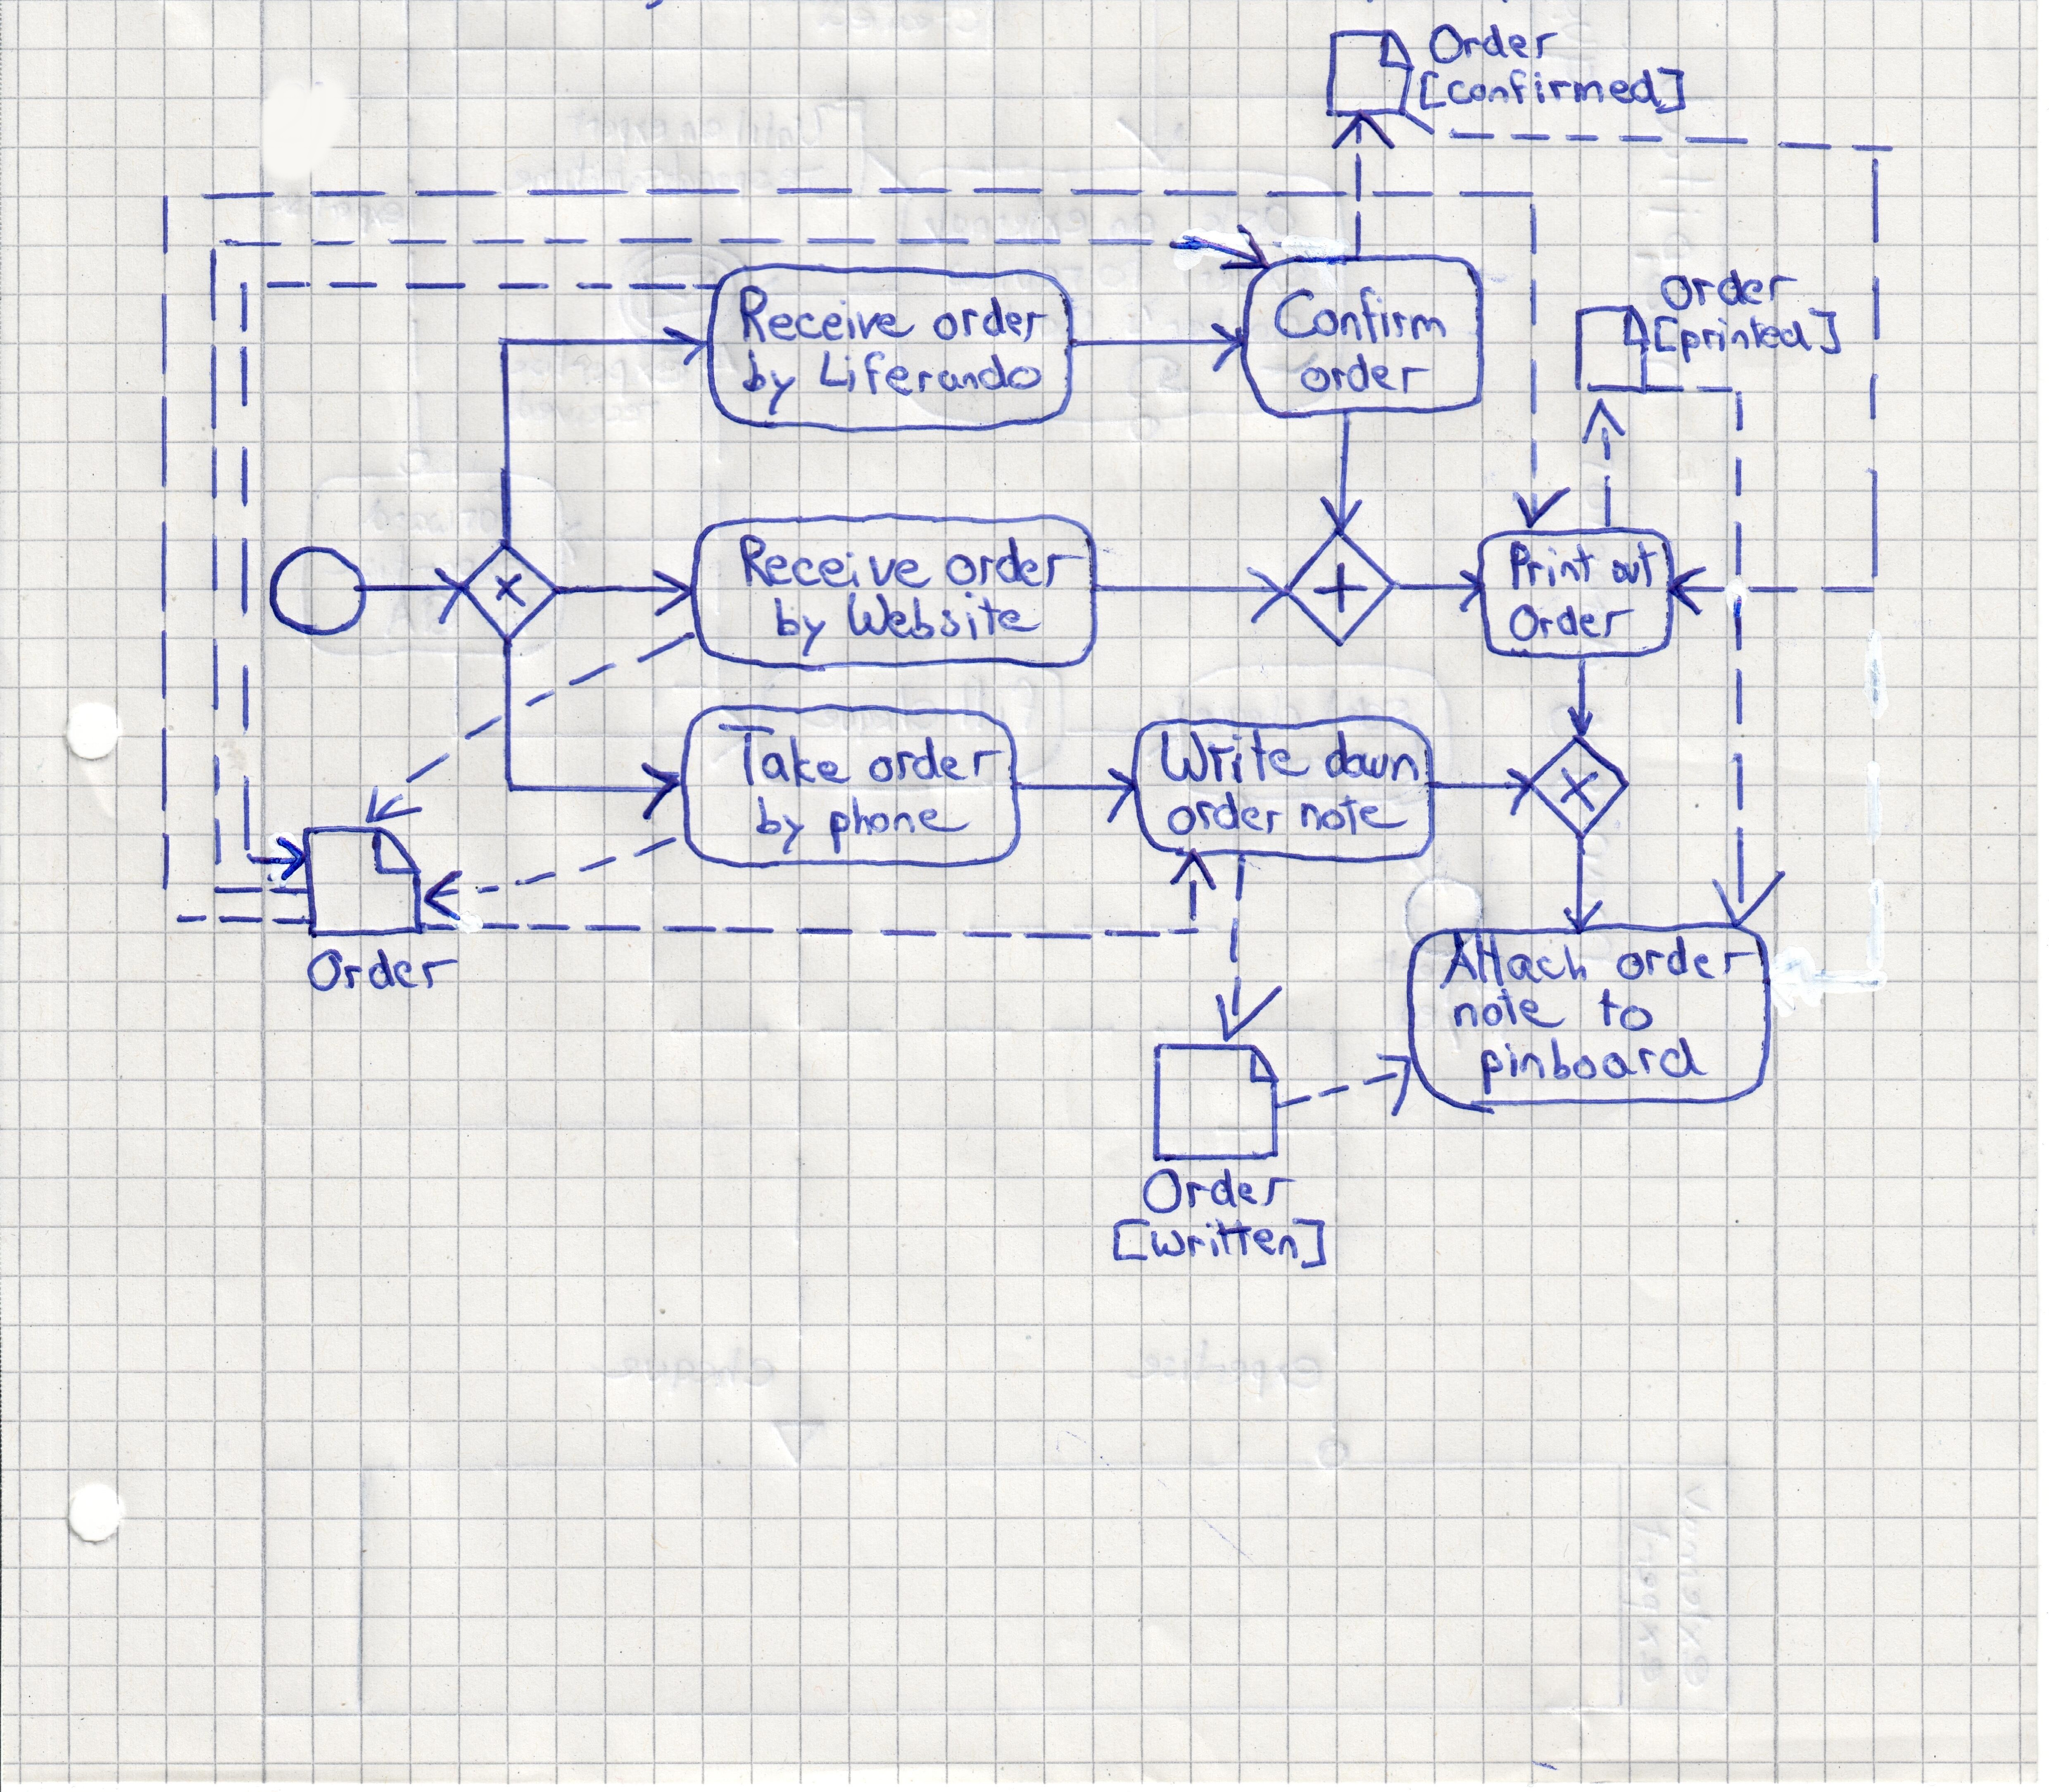Attach: (1437, 932, 1591, 989)
Confirm: (1270, 286, 1448, 343)
Liferando: (817, 347, 1045, 401)
Order: (305, 946, 460, 996), (1139, 1165, 1296, 1214), (1427, 21, 1559, 64), (1507, 603, 1636, 643)
Print: (1504, 540, 1594, 590)
Receive: (737, 533, 936, 592), (735, 284, 916, 345)
Take: (718, 721, 854, 789)
Website: (843, 587, 1040, 639)
Write: (1160, 728, 1310, 784)
[confirmed]: (1417, 61, 1690, 117)
[printed]: (1652, 307, 1842, 366)
[written]: (1110, 1216, 1328, 1270)
by: (737, 348, 800, 416), (770, 596, 829, 655), (751, 798, 808, 853)
down: (1324, 728, 1422, 782)
note: (1451, 986, 1568, 1029), (1300, 787, 1403, 836)
order: (944, 536, 1087, 589), (1615, 932, 1756, 982), (866, 735, 1007, 785), (1659, 265, 1798, 313), (932, 294, 1051, 345), (1167, 787, 1286, 836), (1298, 352, 1430, 394)
out: (1608, 538, 1660, 587)
phone: (828, 792, 967, 853)
pinboard: (1476, 1034, 1709, 1094)
to: (1598, 986, 1655, 1031)
